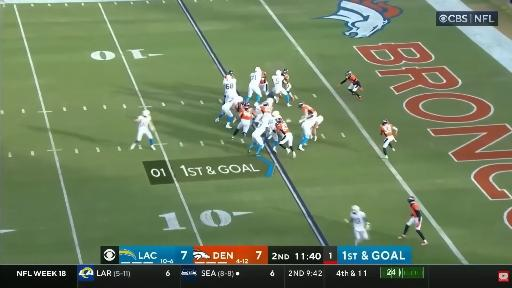Helmet: (265, 98, 274, 105), (317, 116, 323, 125), (276, 117, 283, 124), (272, 111, 280, 117), (142, 110, 150, 116), (408, 197, 415, 203), (227, 70, 234, 76), (351, 206, 359, 211), (226, 74, 232, 80), (237, 103, 243, 109), (382, 120, 389, 125), (243, 103, 249, 108), (255, 67, 261, 72), (346, 71, 351, 76), (299, 102, 304, 107), (282, 69, 287, 74), (276, 70, 281, 75), (262, 102, 268, 106), (238, 96, 242, 101)
Jersey: (351, 211, 366, 230), (223, 78, 237, 96), (259, 113, 274, 127), (381, 123, 395, 137), (138, 116, 151, 129), (239, 108, 253, 120), (277, 122, 289, 134), (250, 72, 262, 84), (410, 203, 420, 217), (226, 96, 238, 107), (302, 104, 315, 114), (272, 75, 283, 86), (347, 75, 358, 84), (260, 105, 272, 113), (260, 72, 266, 84), (282, 74, 289, 83)
Player: (215, 75, 242, 128), (399, 197, 427, 245), (248, 110, 273, 155), (131, 110, 155, 150), (345, 206, 369, 245), (298, 102, 317, 150), (298, 116, 323, 150), (232, 103, 254, 139), (276, 118, 295, 158), (264, 111, 281, 152), (338, 71, 362, 100), (245, 67, 262, 107), (272, 70, 290, 106), (380, 120, 397, 158), (255, 98, 273, 125), (282, 68, 294, 106), (299, 102, 317, 123), (312, 116, 323, 141), (259, 72, 269, 96), (223, 82, 228, 102)
